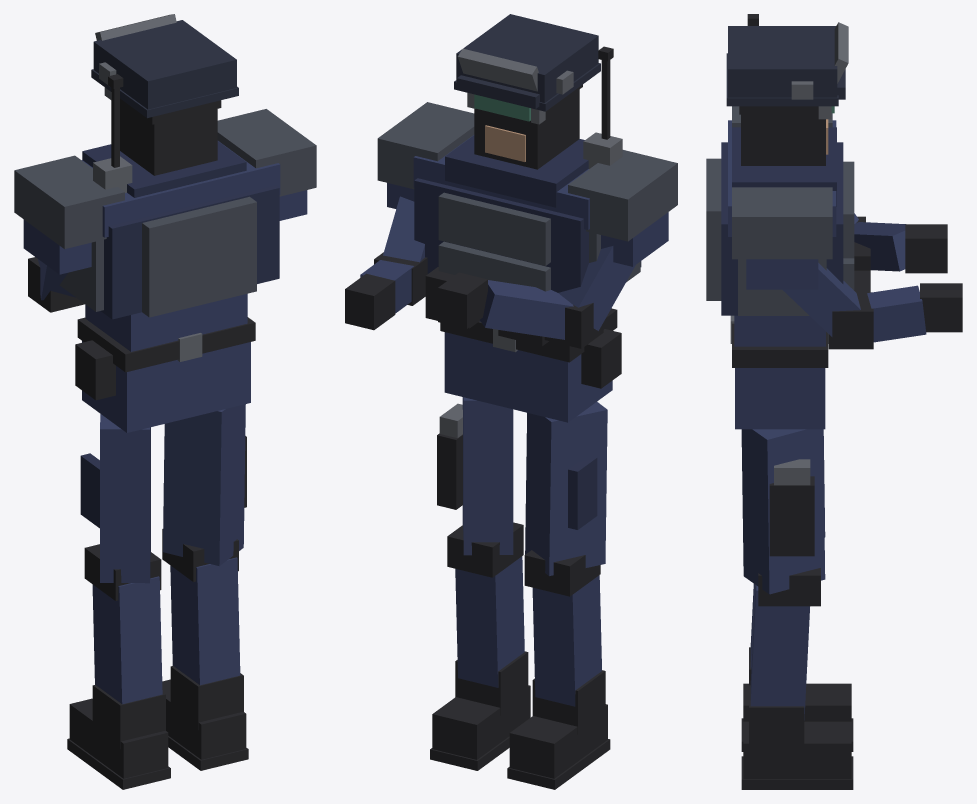
The model's file is counter-terrorist.glb.
3 views of the same model, side by side, from view 1: azimuth 30°, elevation 25°; view 2: azimuth 150°, elevation 25°; view 3: azimuth 270°, elevation 25° (orthographic).
Visible parts, largest first — view 1: torso, legRight, legLeft, head, hips, armLeft, armRight; view 2: legLeft, legRight, torso, armLeft, head, hips, armRight; view 3: legRight, armRight, torso, head, hips, armLeft, legLeft.
Boxes of the visible parts, x1=… form: torso: x1=59, y1=74, x2=280, y2=351; legRight: x1=162, y1=404, x2=248, y2=770; legLeft: x1=67, y1=414, x2=170, y2=789; head: x1=91, y1=14, x2=238, y2=175; hips: x1=75, y1=317, x2=255, y2=432; armLeft: x1=14, y1=155, x2=124, y2=312; armRight: x1=217, y1=109, x2=316, y2=220; legLeft: x1=507, y1=402, x2=610, y2=789; legRight: x1=430, y1=397, x2=530, y2=770; torso: x1=413, y1=46, x2=641, y2=346; armLeft: x1=438, y1=150, x2=677, y2=348; head: x1=454, y1=14, x2=600, y2=169; hips: x1=440, y1=308, x2=621, y2=422; armRight: x1=345, y1=102, x2=474, y2=330; legRight: x1=741, y1=429, x2=853, y2=789; armRight: x1=732, y1=187, x2=962, y2=349; torso: x1=706, y1=14, x2=870, y2=346; head: x1=726, y1=22, x2=848, y2=165; hips: x1=730, y1=315, x2=828, y2=429; armLeft: x1=732, y1=106, x2=947, y2=273; legLeft: x1=741, y1=429, x2=853, y2=751.
Size of the model in its own units: 0.674 by 1.83 by 0.591.
